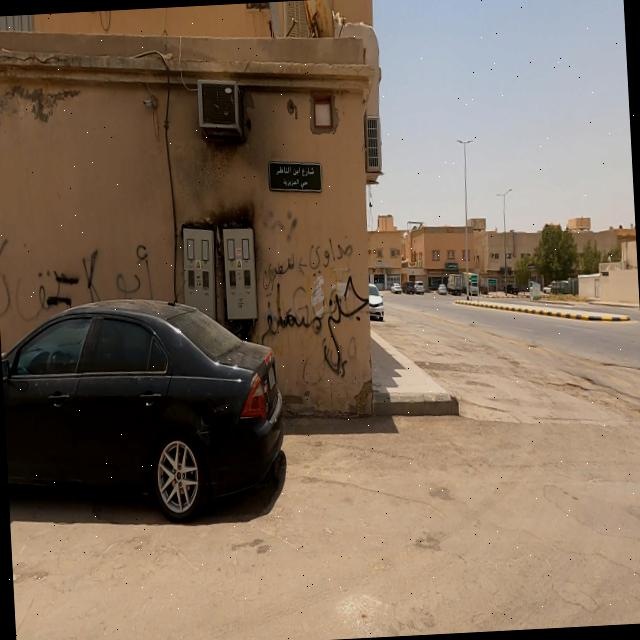Graffiti: (253, 205, 371, 348), (1, 231, 163, 309), (303, 342, 364, 390)
